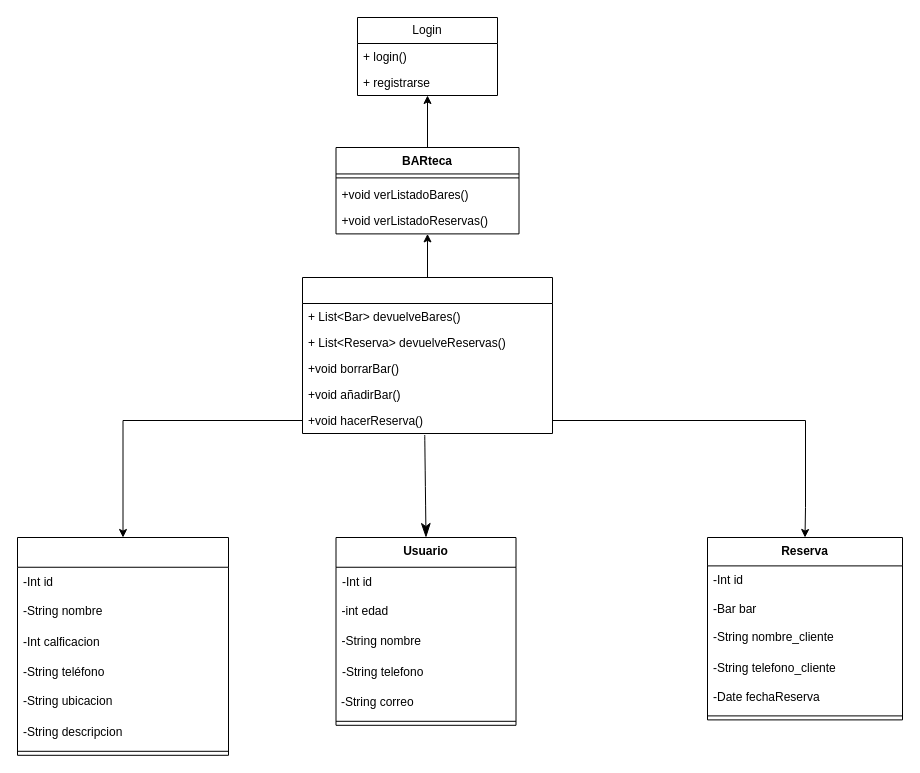
This 920x773 diagram has some shape labels left out. The box of each missing label's shape, as (x1, y1, x2, y2) in pixels:
API: (302, 276, 552, 434)
Bar: (16, 536, 228, 755)
